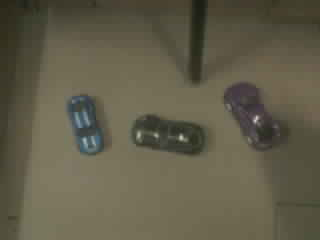Car: (224, 82, 281, 149), (132, 114, 204, 154), (70, 95, 102, 151)
